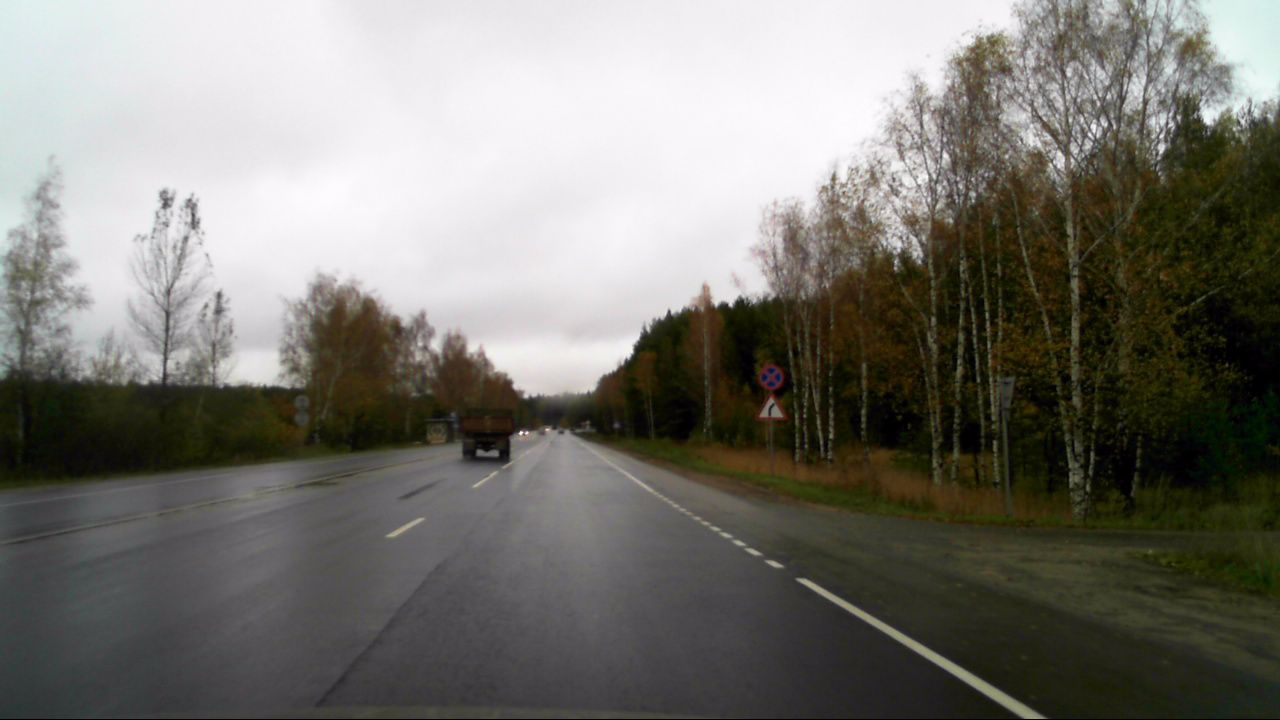No Parking: (755, 362, 787, 391)
